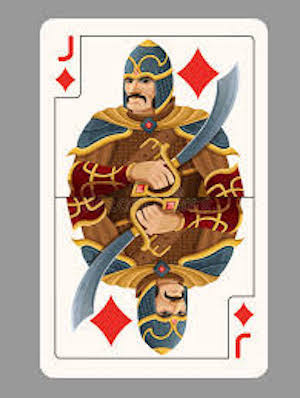JackOfDiamonds: (30, 12, 274, 386)
